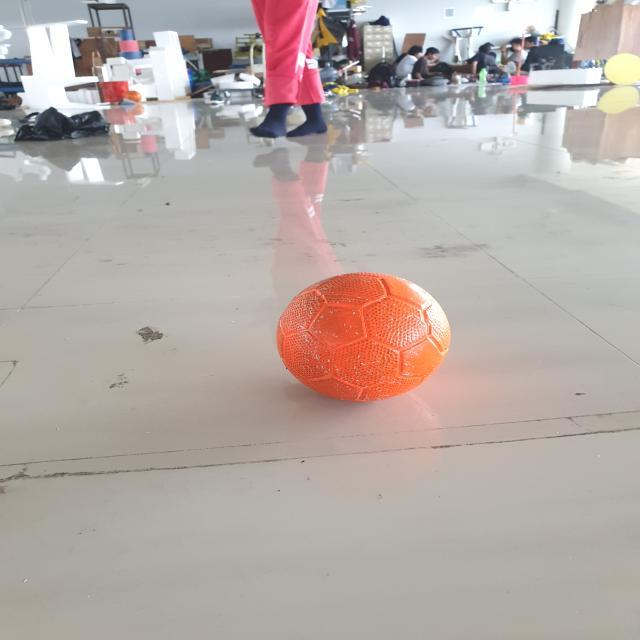bola: (256, 256, 478, 414)
